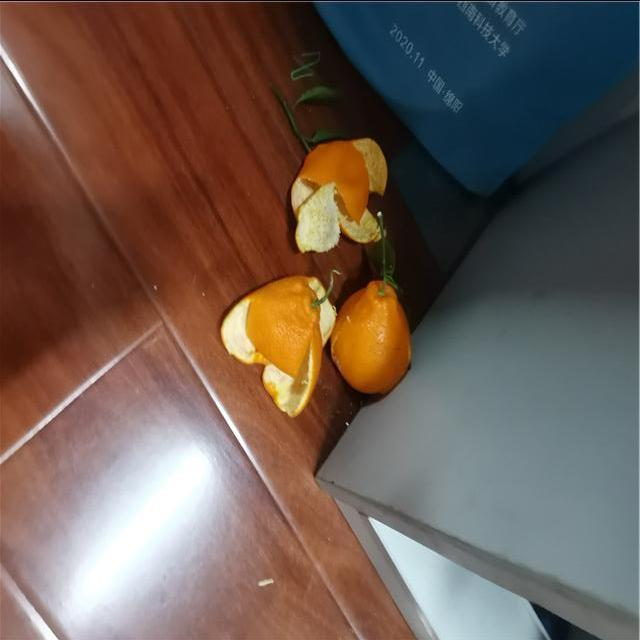orange peel: (213, 257, 344, 421), (285, 92, 411, 256), (327, 250, 428, 407)
